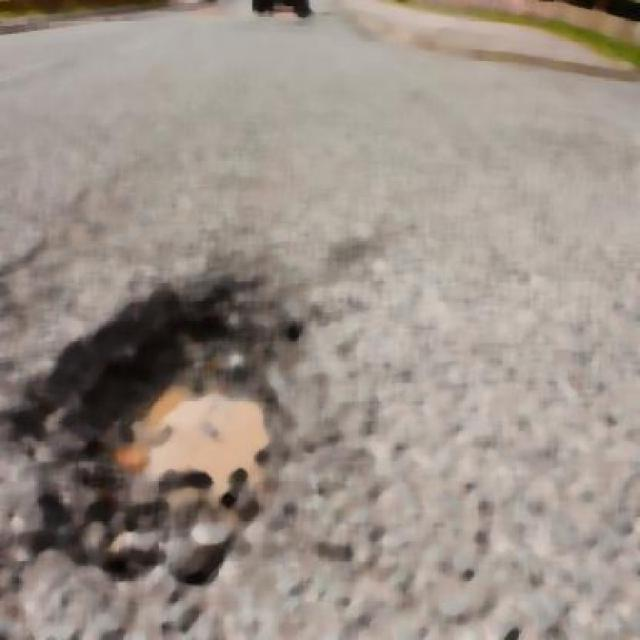pothole: (133, 331, 293, 557)
